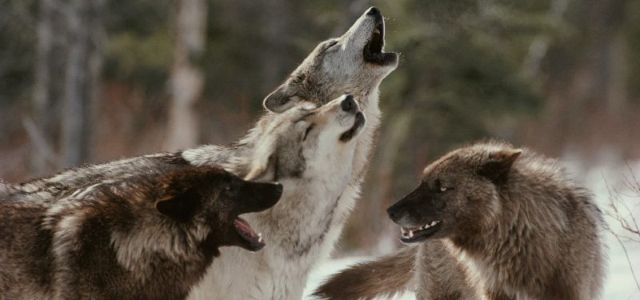wolf: (10, 166, 286, 294), (389, 140, 611, 296), (271, 5, 422, 101), (251, 107, 379, 188)
